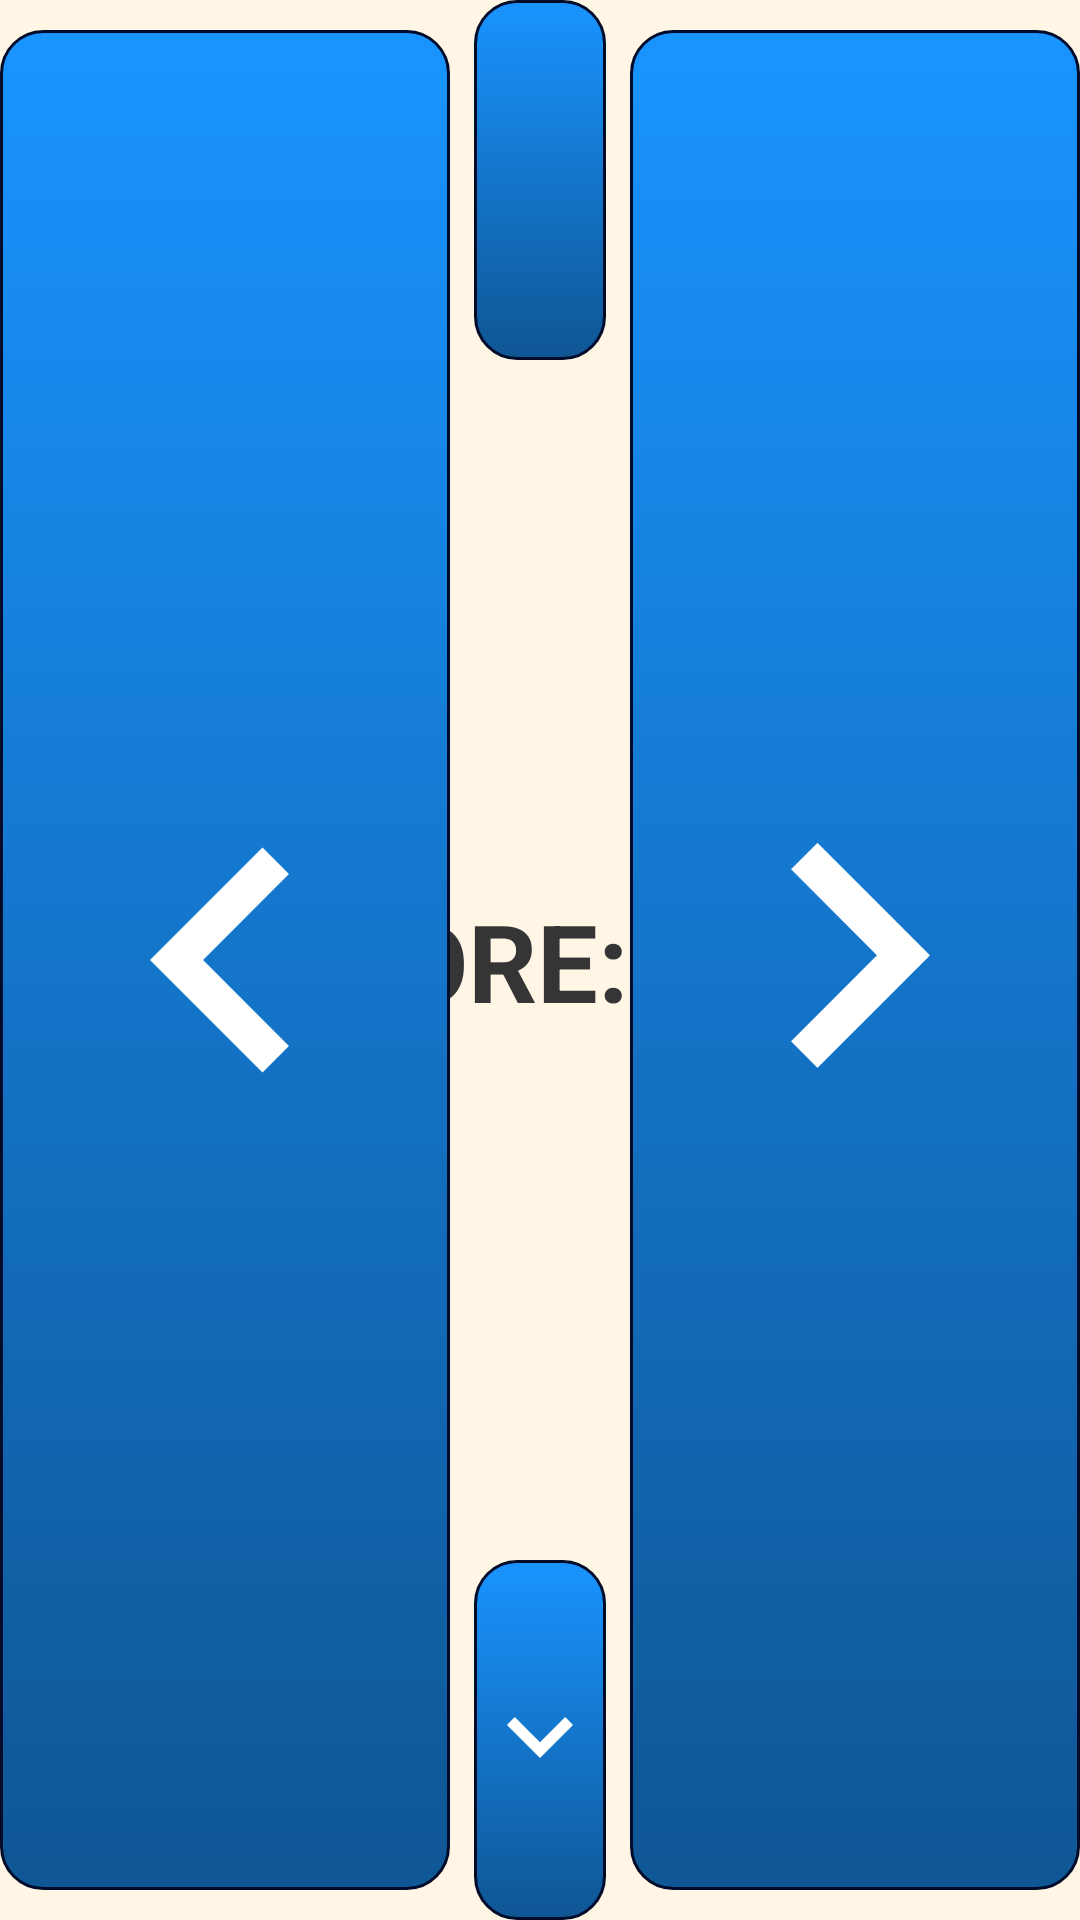

Icons on this 1080×1920 Android screen, each with its box as (x1, y1, x2, y2):
down: (474, 1560, 606, 1920)
